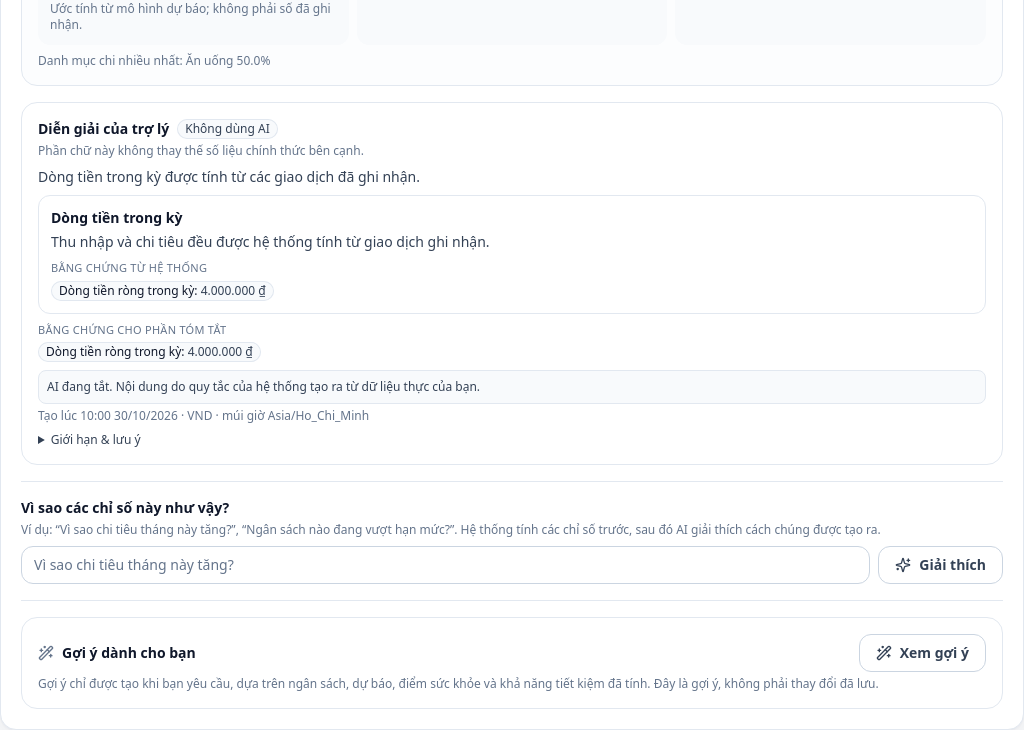
it: AnalyticsAiPanel — recommendations › only asks on demand and marks every suggestion as not applied
(page scrolled)
Expected: the element with test id "ai-analytics-summary-text" is shown, [21, 102, 1003, 465]
Click the button "Xem gợi ý" at [922, 653], box [859, 634, 986, 672]
(page scrolled)
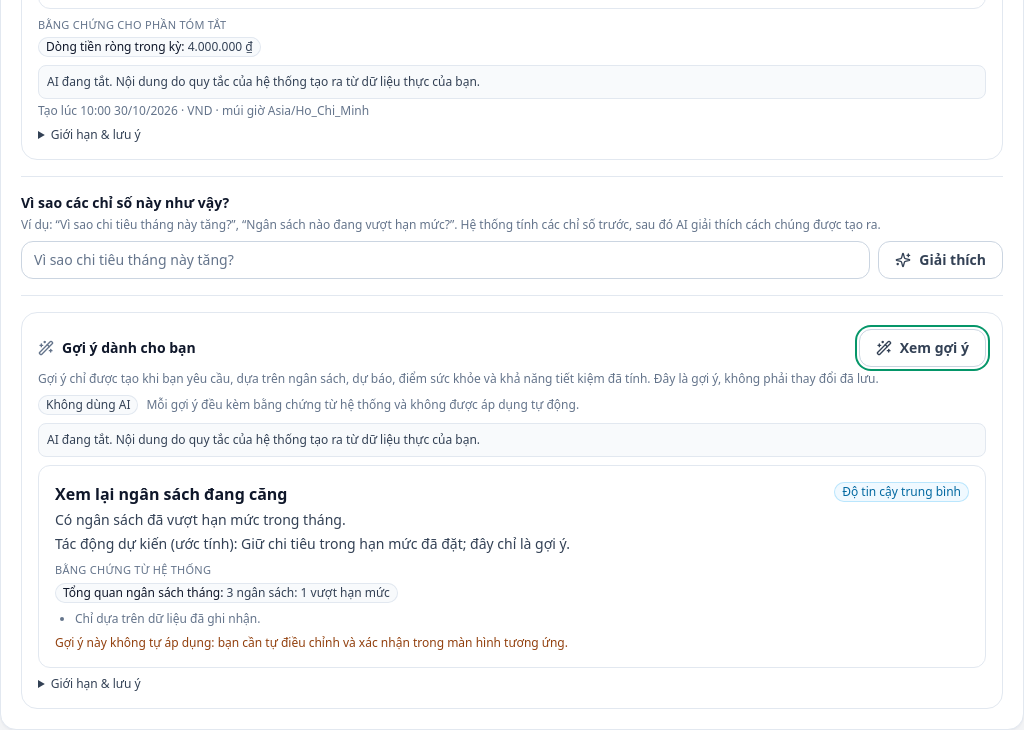
Expected: the text "Xem lại ngân sách đang căng" is shown, [55, 482, 288, 506]
Expected: the text "Độ tin cậy trung bình" is shown, [834, 482, 969, 502]
Expected: the text "Gợi ý này không tự áp dụng" is shown, [55, 634, 568, 650]
